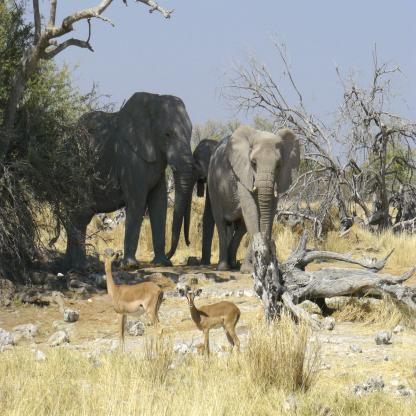Deer: (97, 253, 165, 357), (178, 289, 241, 365)
